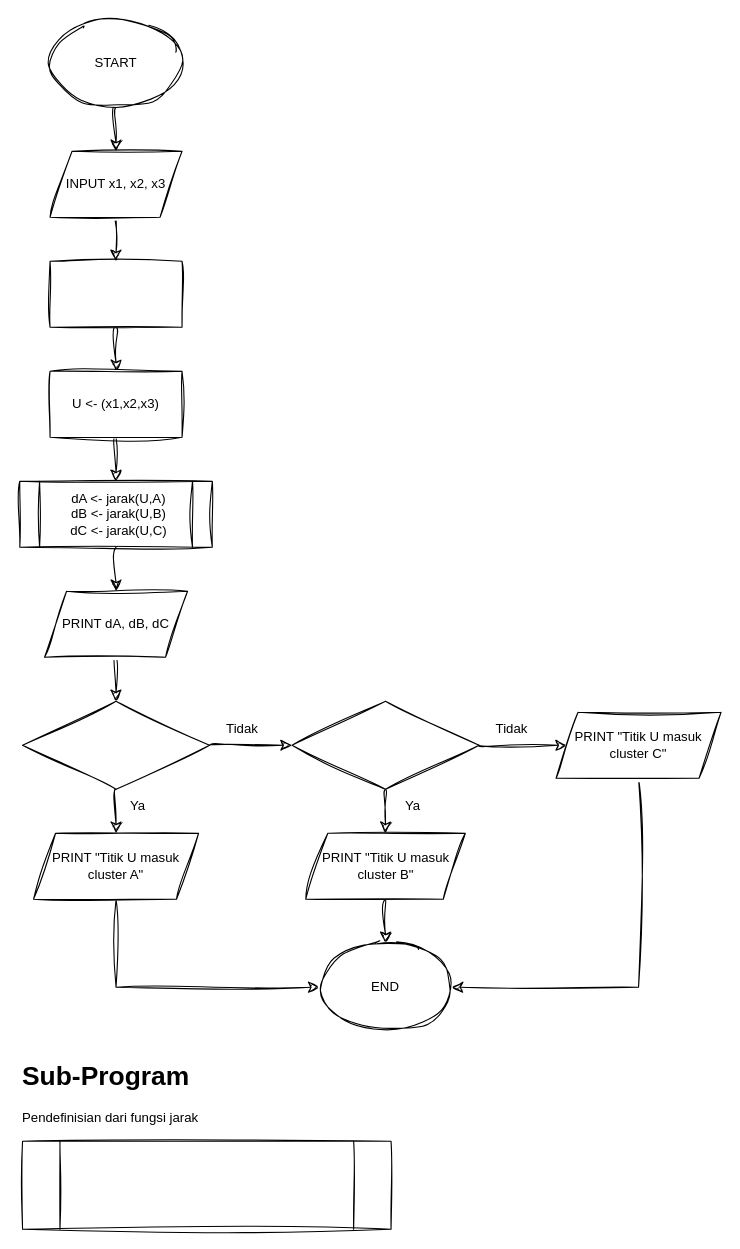
The diagram is 740 pixels wide and 1249 high, and some of its shapes have lost their labels. The centre of each missing label's shape, as x and y in pixels:
"A ← (2, 1, 3) B ← (1, -4, 6) C ← (-2, 3, -2)" goes at (x=115, y=293).
"dA ≤ dB AND dA ≤ dC?" goes at (x=115, y=744).
"dB ≤ dA AND dB ≤ dC?" goes at (x=385, y=744).
"jarak(P,Q) RETURN √((P1-Q1)²+(P2-Q2)²+(P3-Q3)²)" goes at (x=206, y=1184).
